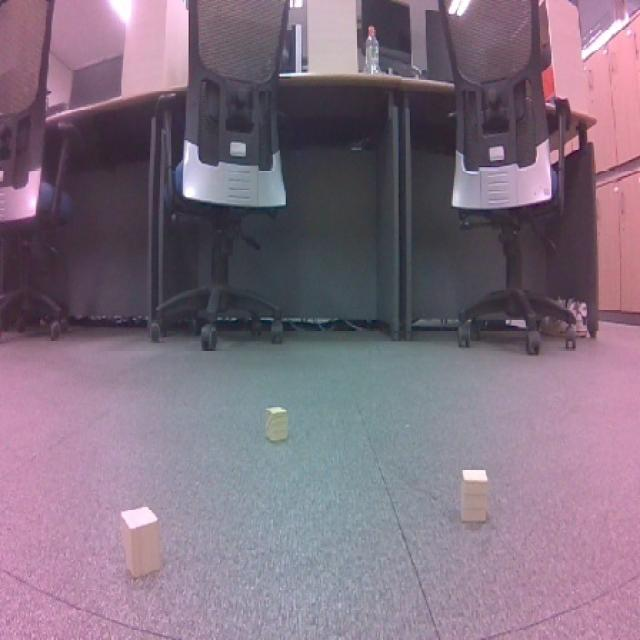obstacle: (108, 498, 175, 589), (452, 465, 492, 534), (260, 399, 294, 445)
